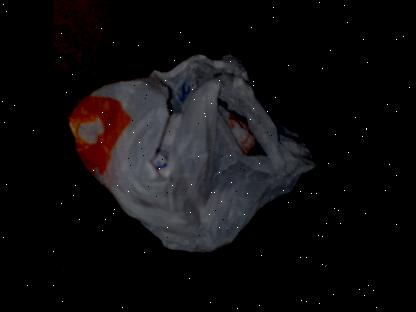Others: (66, 49, 315, 257)
